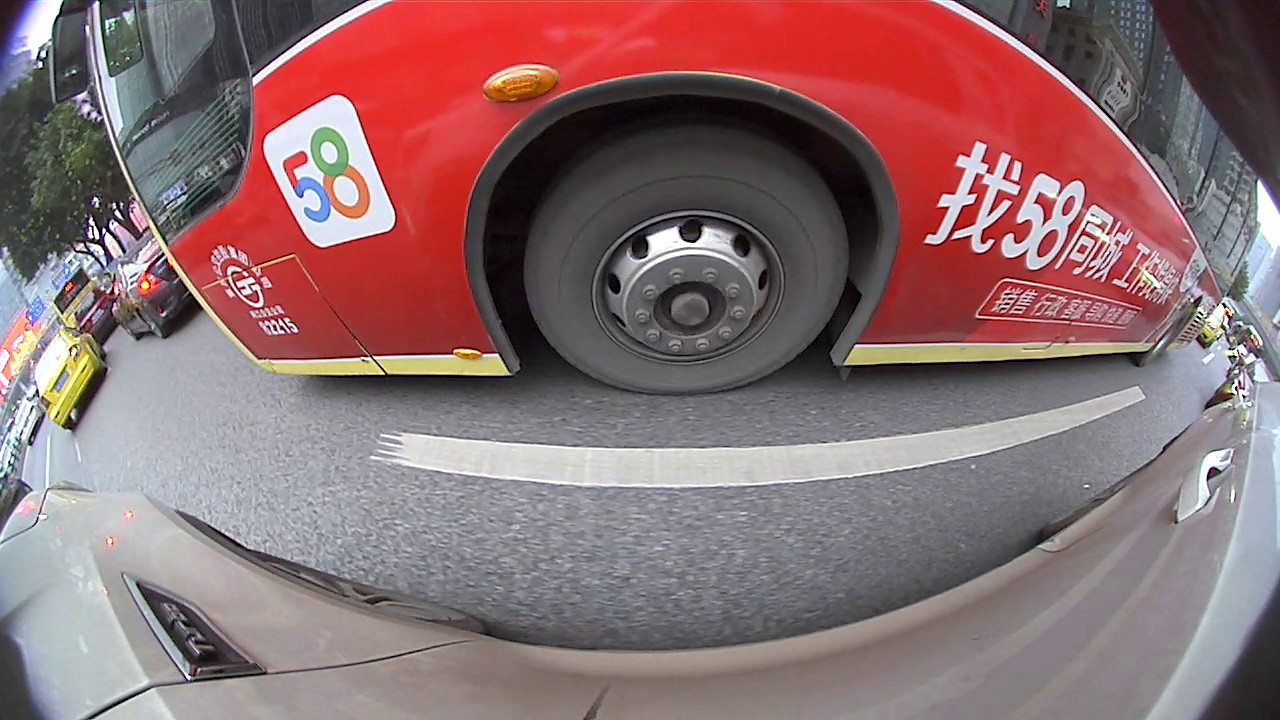bus: (509, 20, 770, 103)
car: (688, 64, 919, 179), (196, 110, 329, 204), (371, 65, 491, 128), (1019, 197, 1107, 267), (1139, 294, 1197, 361)
front: (730, 116, 769, 151), (552, 76, 581, 102)
rear: (861, 146, 892, 178)
